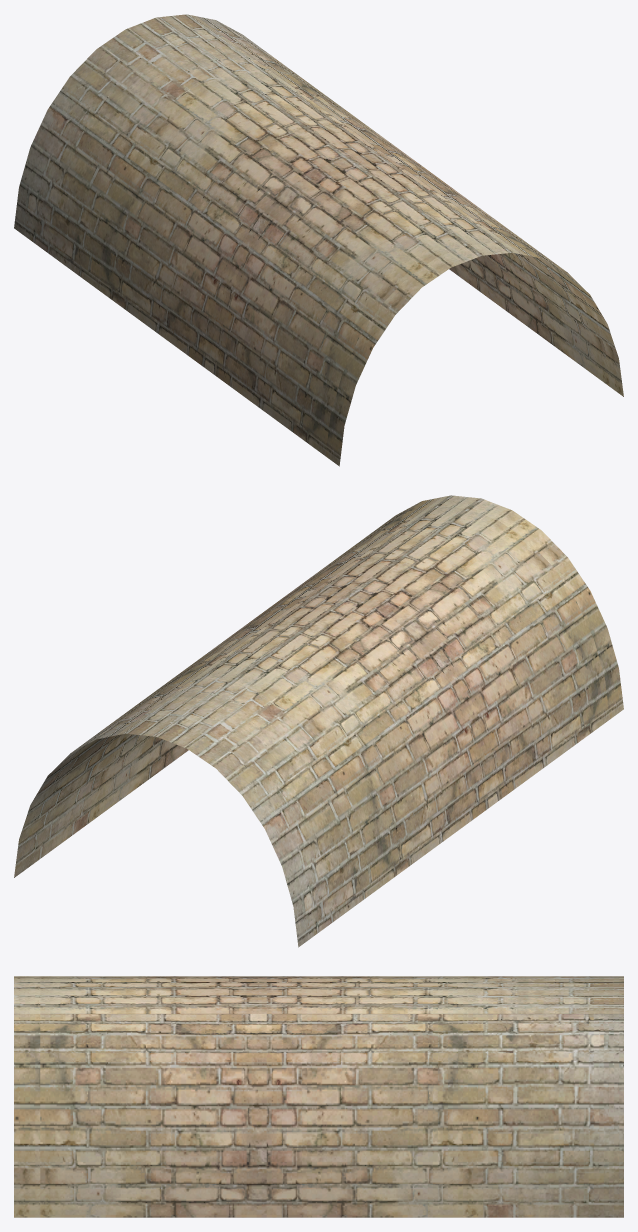
The model's file is tunnelInterior.FBX.
The picture shows the model from 3 angles, top to bottom: view 1: azimuth 30°, elevation 25°; view 2: azimuth 150°, elevation 25°; view 3: azimuth 270°, elevation 25°; orthographic projection. The views are drawn at different scales.
Visible parts, largest first — view 1: Tube004; view 2: Tube004; view 3: Tube004.
Part boxes in pixels (x1=…): Tube004: x1=14, y1=14, x2=623, y2=466; Tube004: x1=14, y1=495, x2=623, y2=947; Tube004: x1=14, y1=976, x2=623, y2=1217.
Size of the model in its own units: 55.94 by 33.09 by 111.
Materials: 1 (1 with a texture image).
